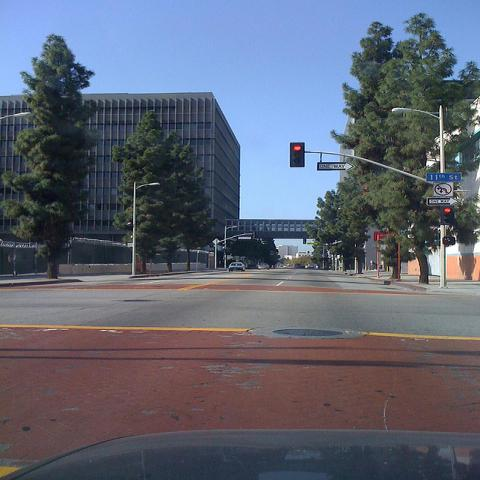car: (0, 428, 479, 480), (228, 262, 246, 272), (258, 264, 269, 270), (308, 264, 314, 268)
